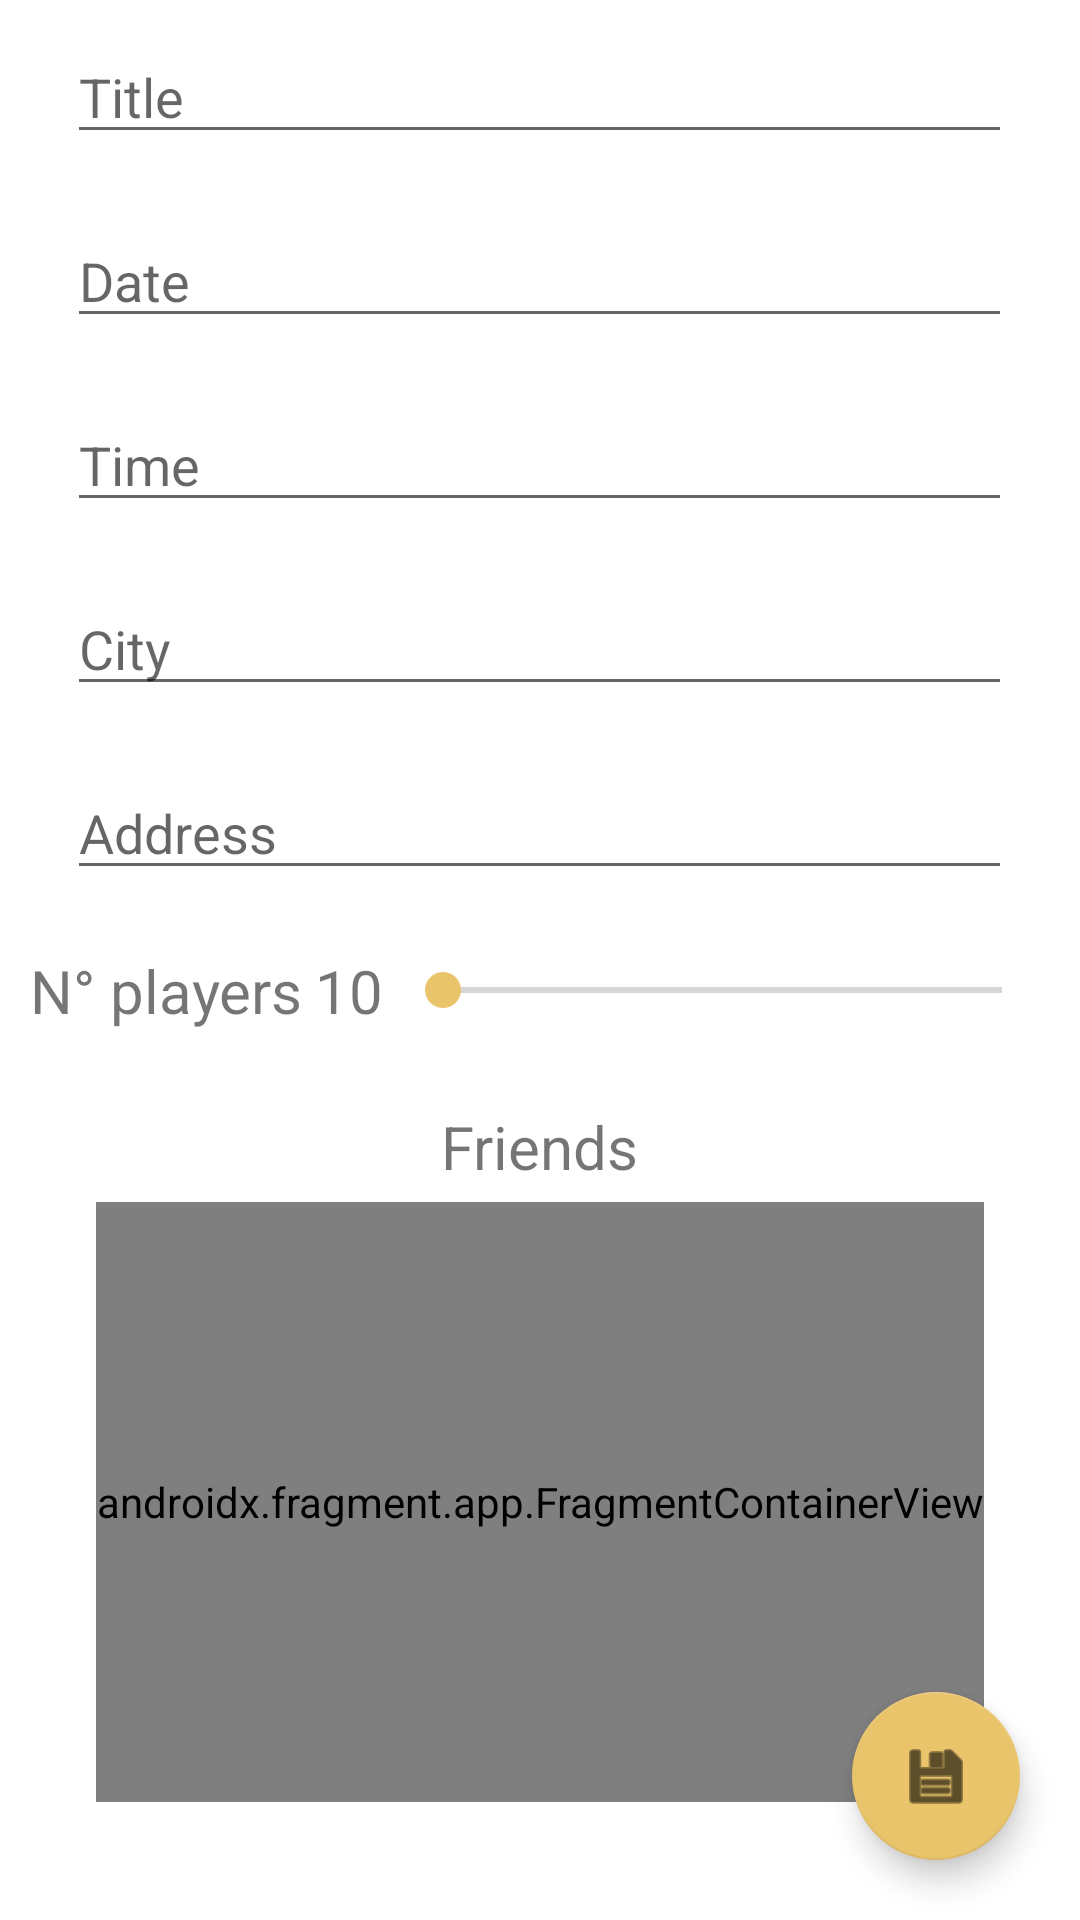

Screen size 1080px x 1920px. Icon name, then its center in pixels as (x=x, y=y):
save: (x=936, y=1776)
